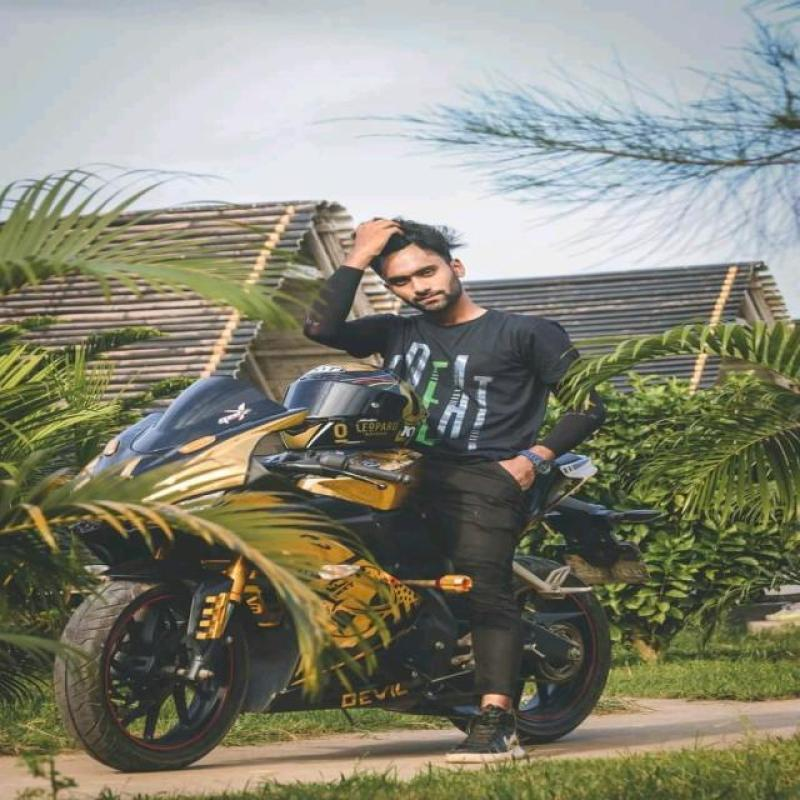nohelmet: (342, 210, 492, 320)
